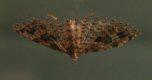Alucitidae: (10, 9, 141, 63)
moth: (12, 11, 143, 65)
